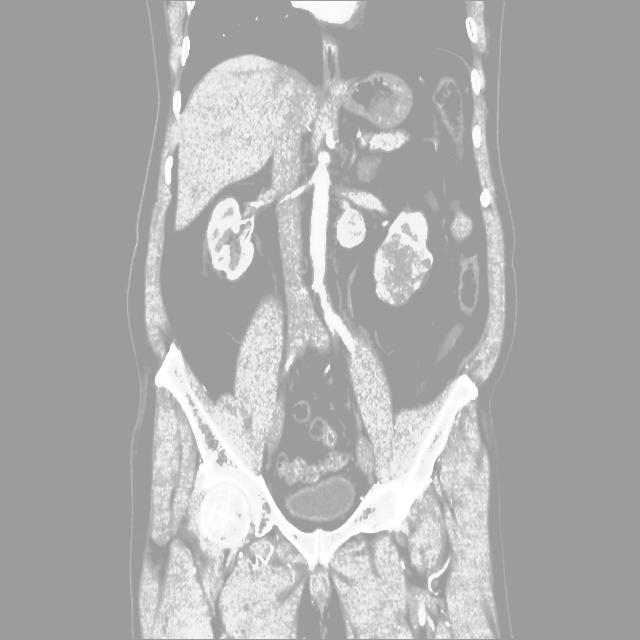TUMOR: (159, 88, 520, 318)
